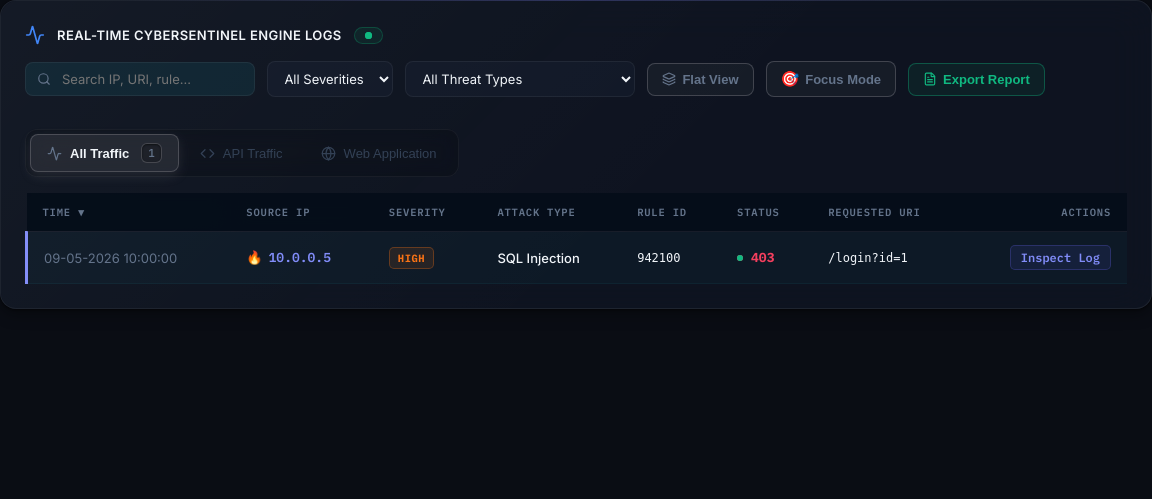
Test: Events — grouped view › drills down into a group to fetch its individual events
Expected: the text "10.0.0.5" is shown, [268, 249, 331, 266]
What coordinates should you click on to do the following:
click the button "Flat View"
I would click on:
 (700, 79)
Its box is [647, 62, 754, 96].
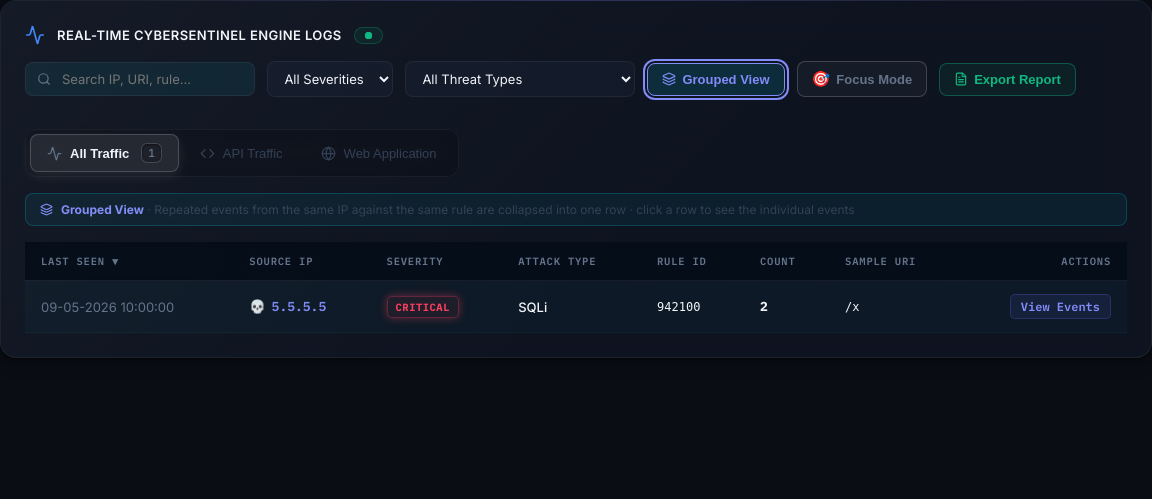
Result: the text "5.5.5.5" is shown at [272, 298, 326, 315]
What coordinates should you click on to do the following:
click the button "View Events"
I would click on:
 (1060, 306)
Its box is [1010, 294, 1111, 319].
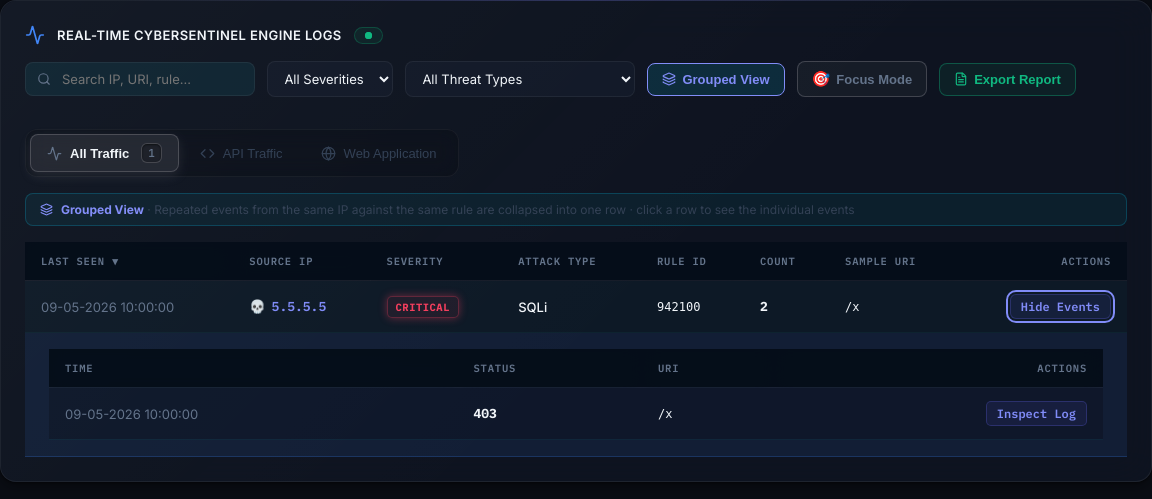
Result: the button "Hide Events" is shown at [1010, 294, 1111, 319]
